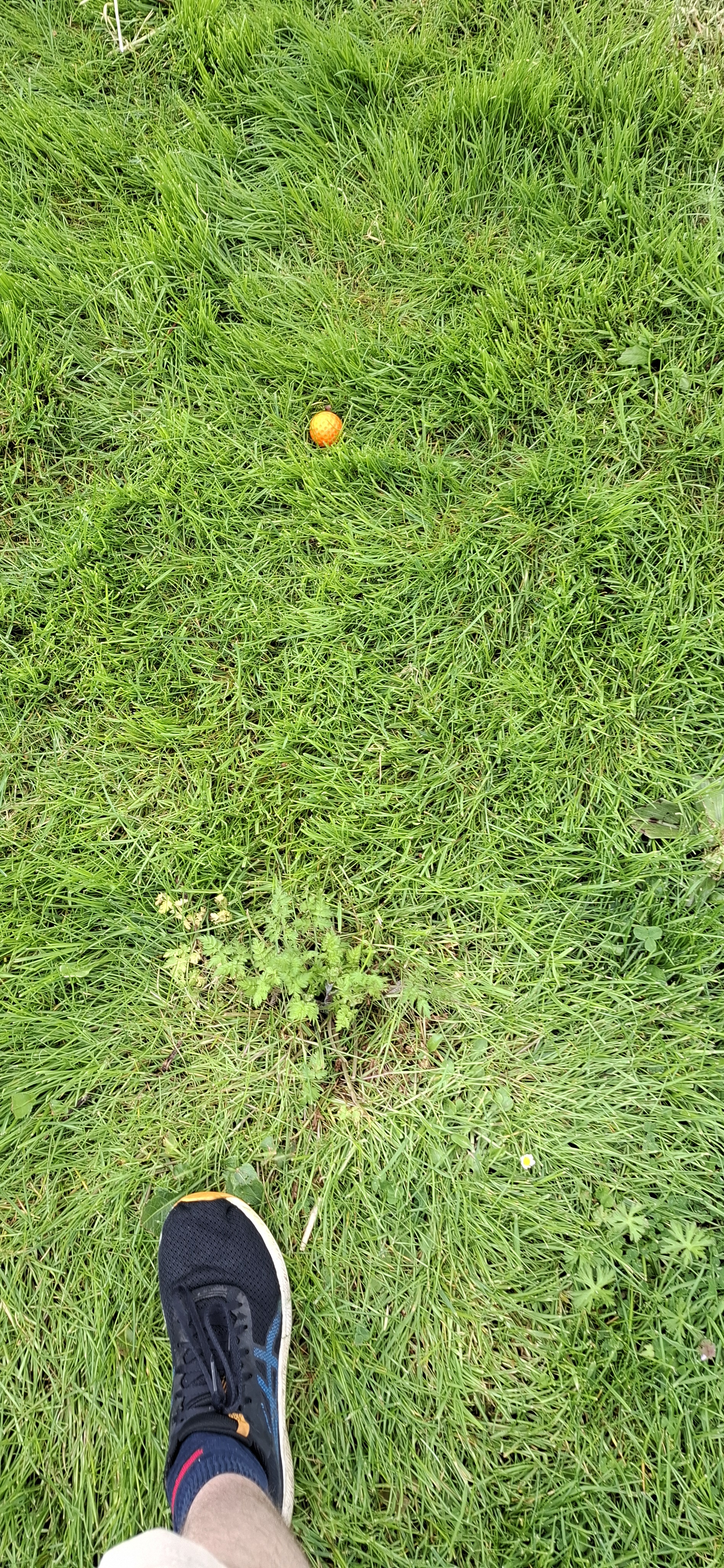ball: (189, 826, 207, 898)
